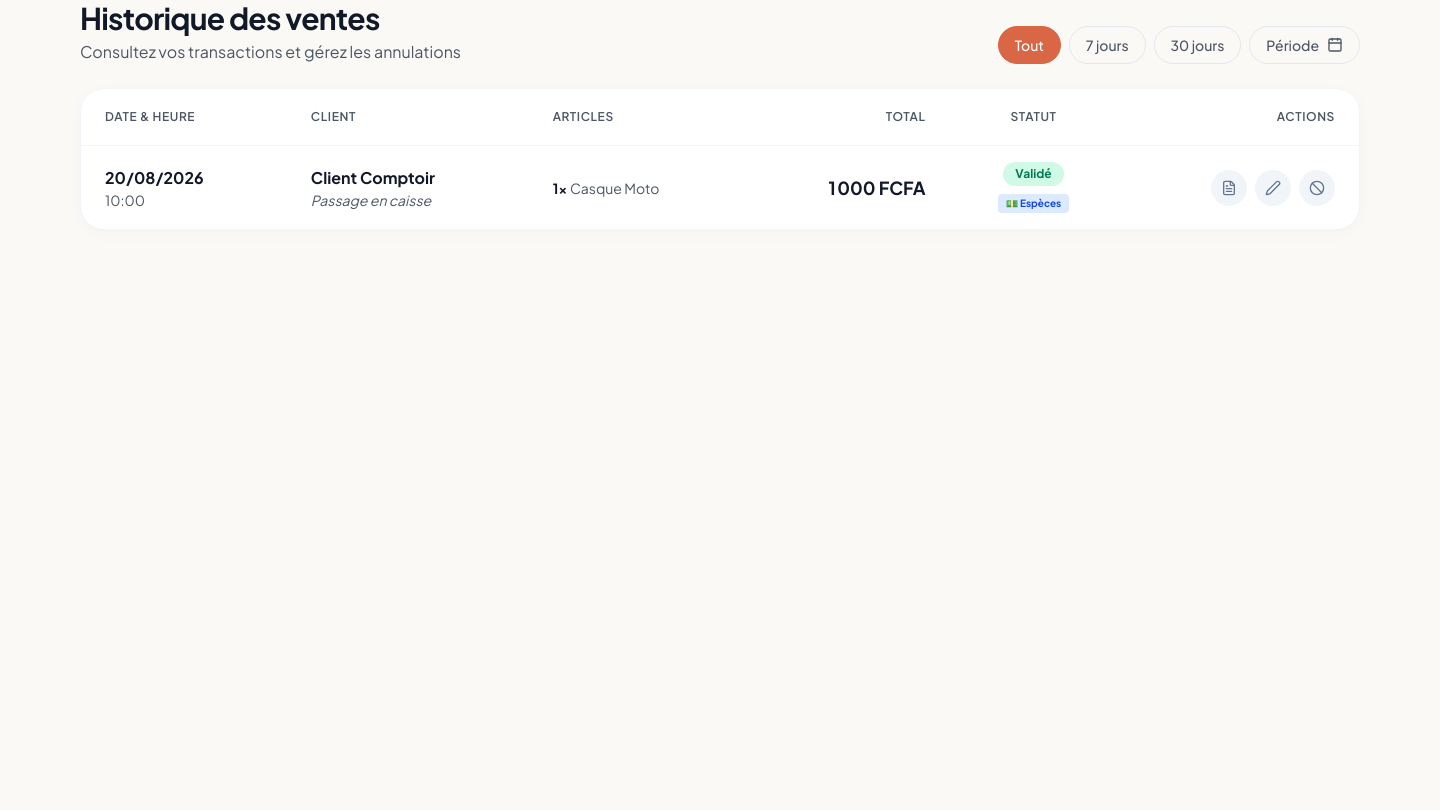
Test: HistoriqueVentes cancel/modify › shows an error toast when cancel_sale rejects (e.g. already cancelled)
Check: the text "Casque Moto" is shown, box [570,178,659,196]
Click the button titled "Annuler Vente". click: (1317,188)
box: [1299,170,1335,206]
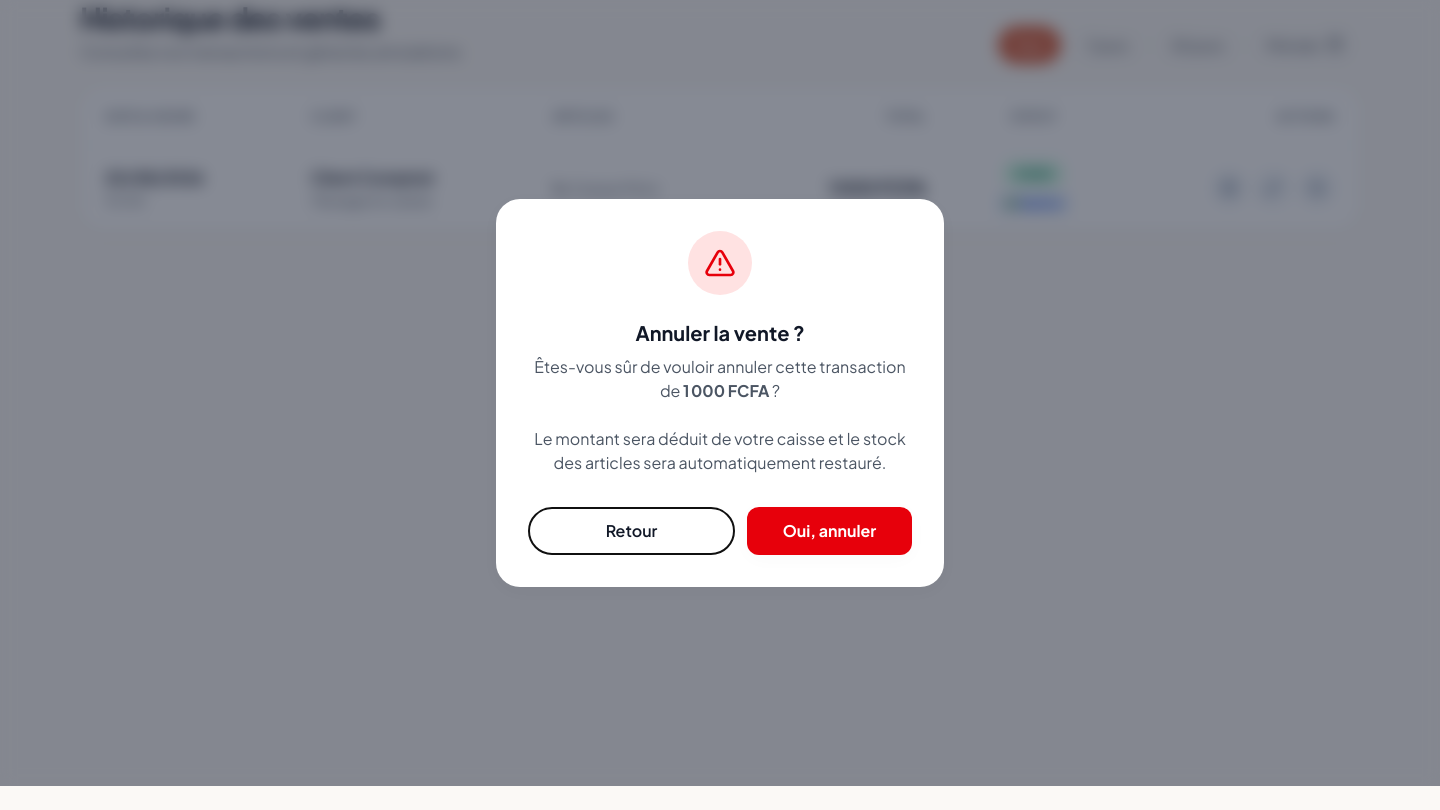
Click the button "Oui, annuler". click: (830,531)
box: [747,507,912,555]
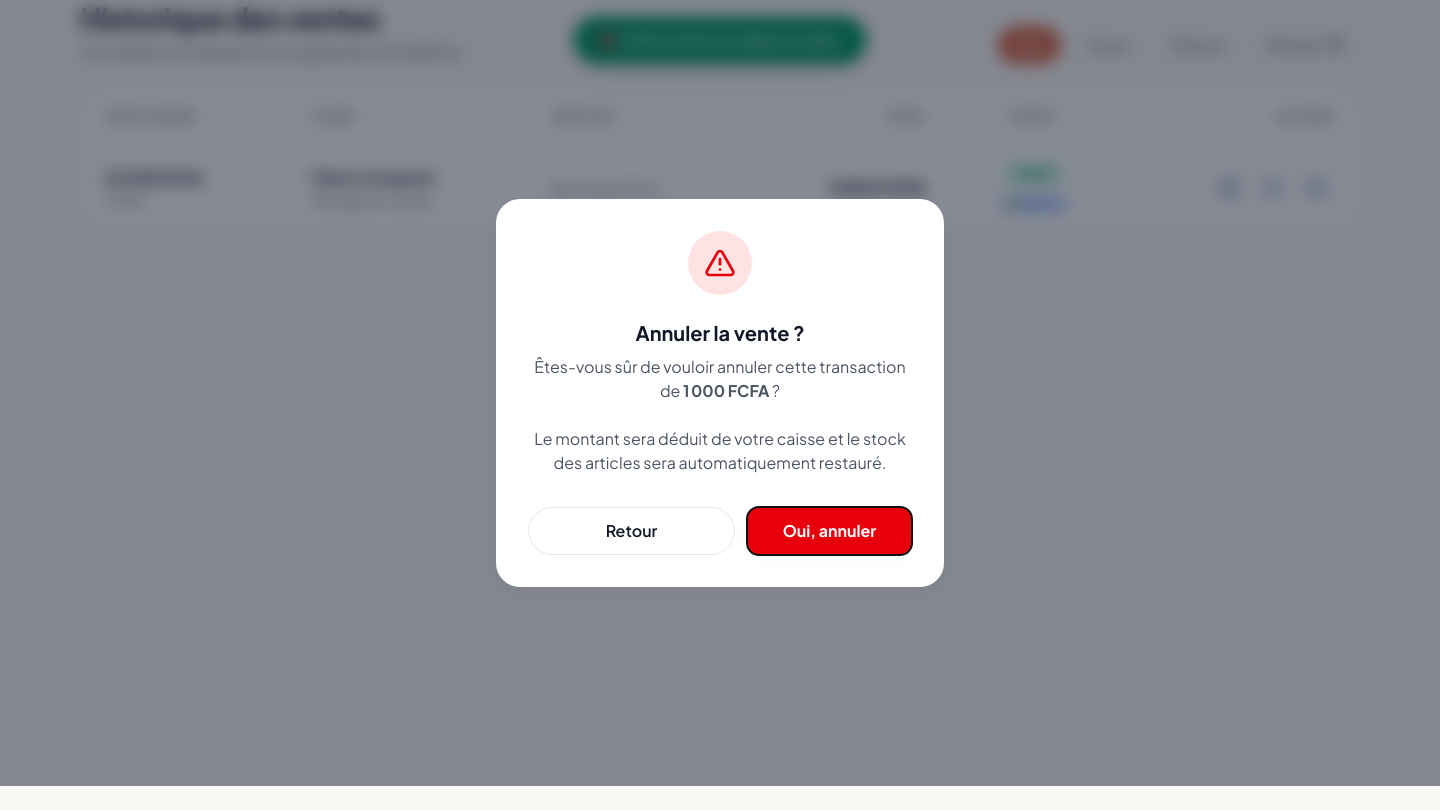
Check: the text "❌ Cette vente est déjà annulée." is shown, box [574,16,866,64]
